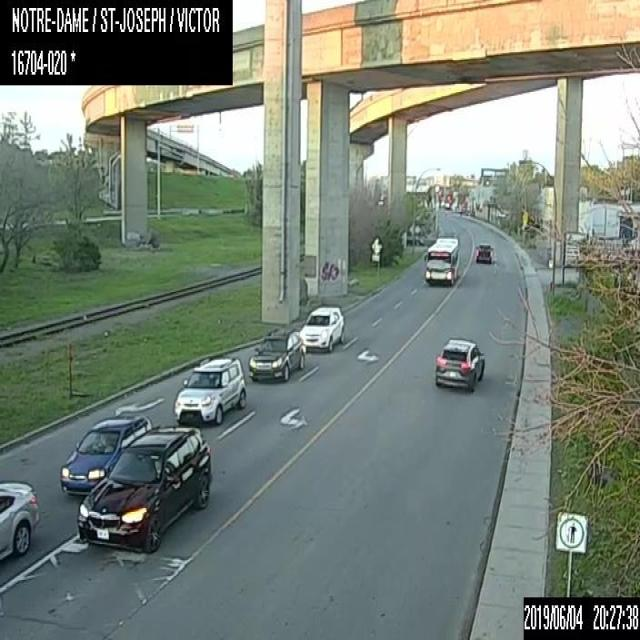bus: (423, 237, 458, 285)
vehicle: (76, 426, 210, 551), (61, 414, 152, 495), (174, 355, 245, 424), (0, 482, 40, 562), (248, 328, 306, 382), (434, 338, 484, 390), (300, 306, 344, 352), (475, 243, 493, 263)
